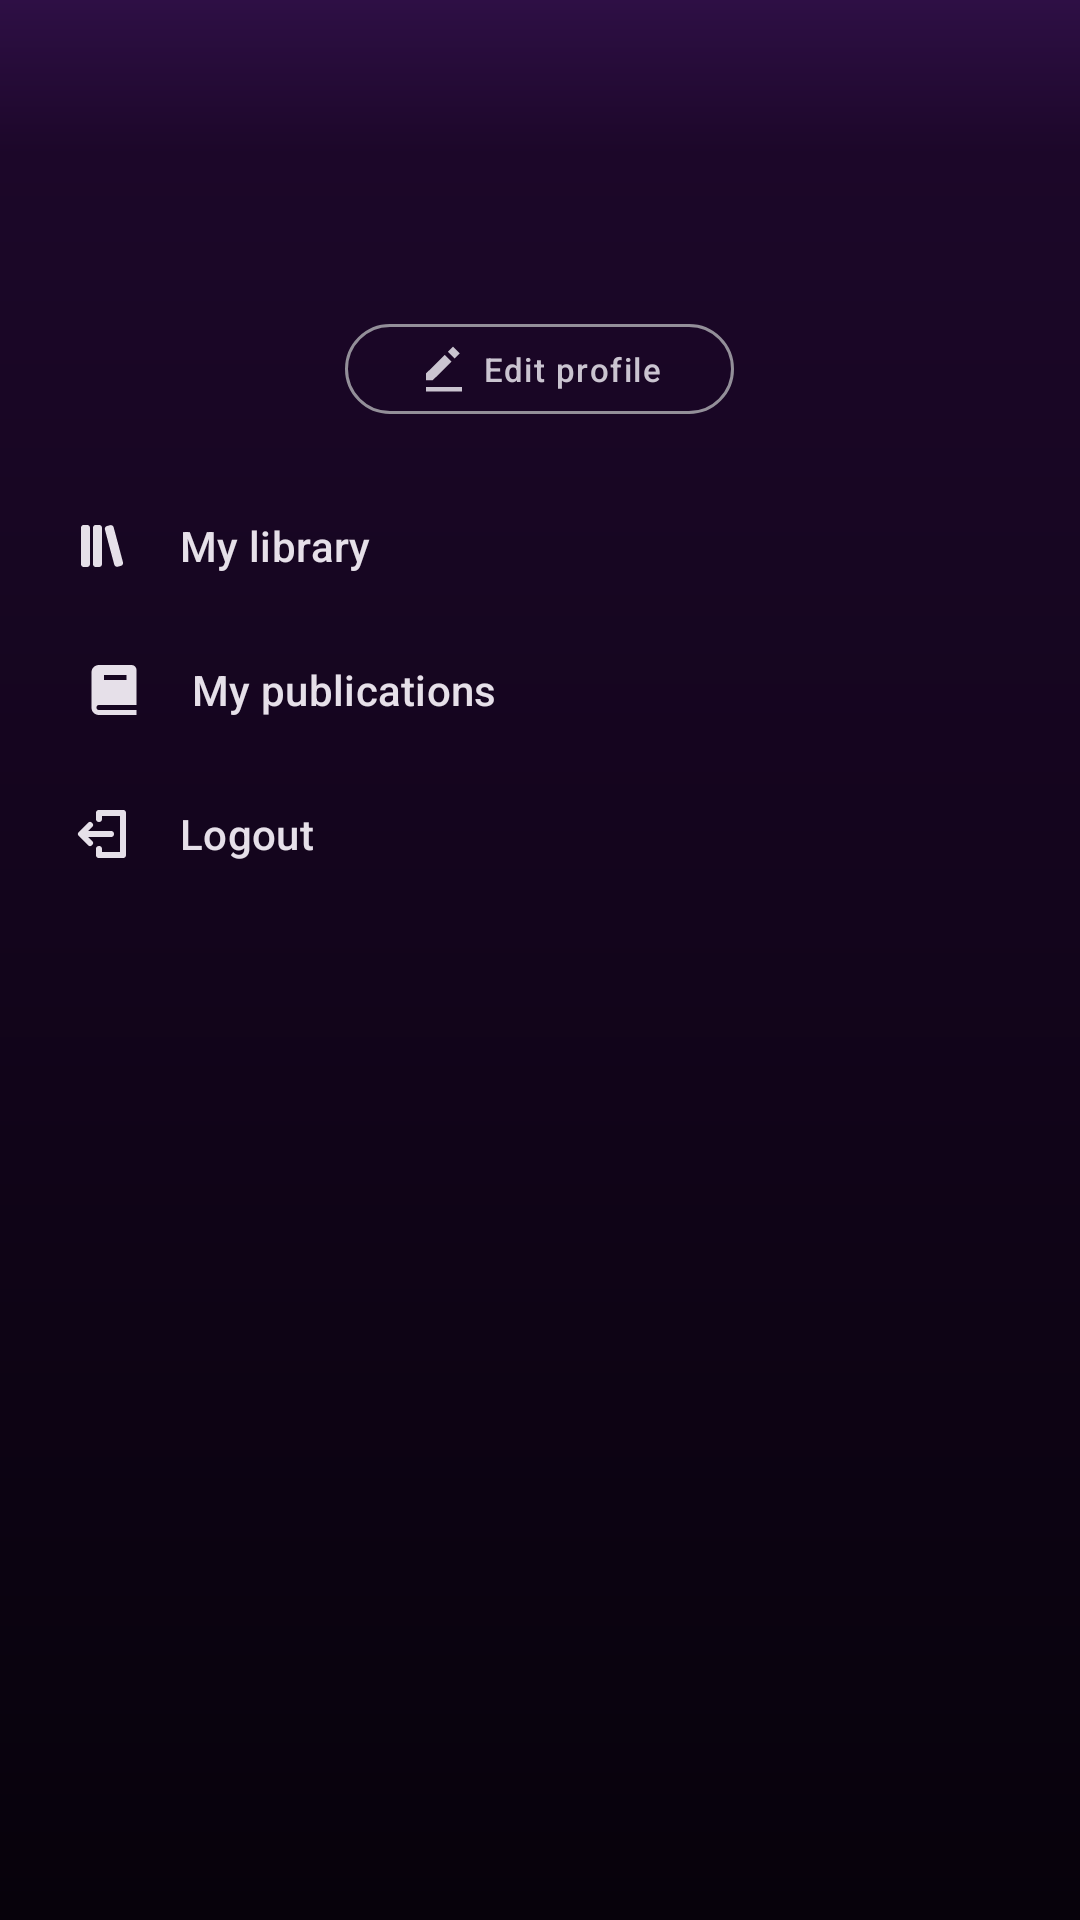

Named icons in this screenshot (1080x1920) and their bounding boxes, (x1, y1, x2, y2):
book: (91, 665, 137, 715)
